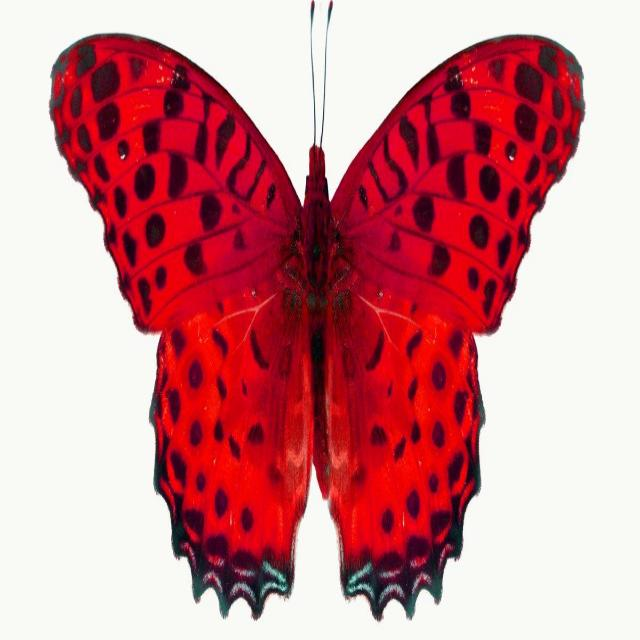butterfly: (50, 0, 584, 619)
